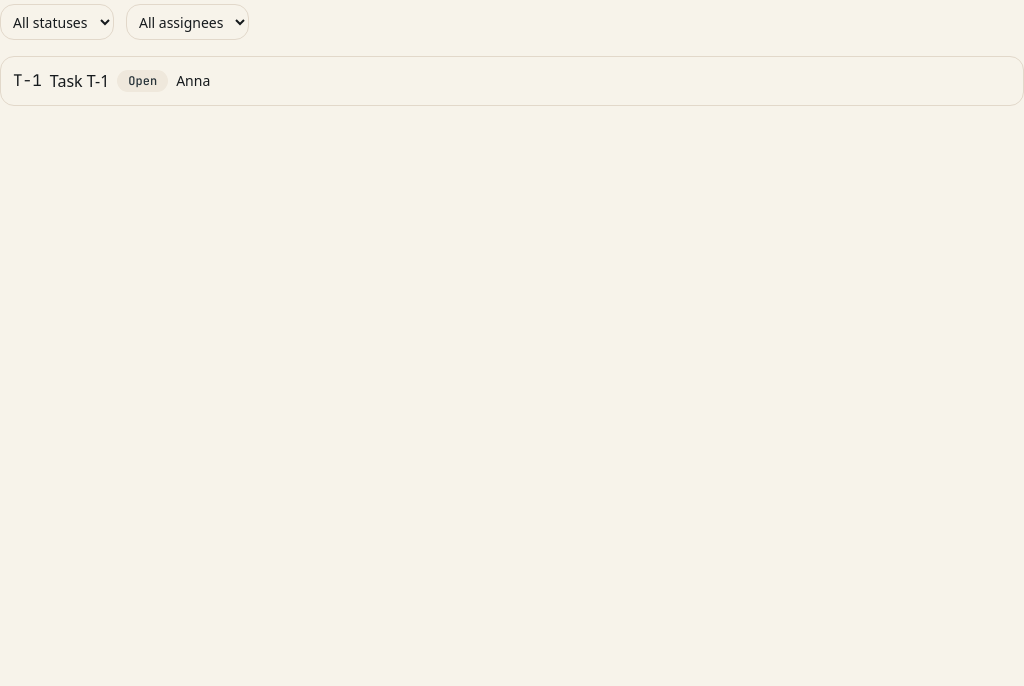
it: manual edit › shows the API error when the transition is rejected
This screenshot has width=1024, height=686.
Step 1. Click the button with test id "task-row-T-1" → (80, 81), box [0,56,1023,106]
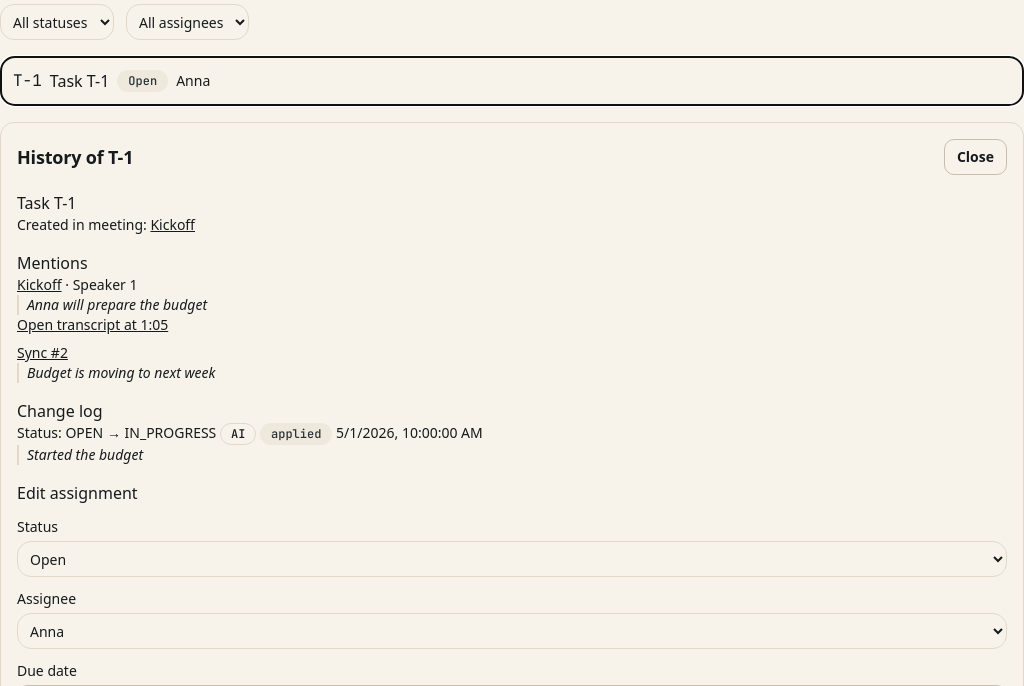
Step 2. Select "Done" in the dropdown with test id "task-edit-status" → (512, 559), box [17,541,1007,577]
(page scrolled)
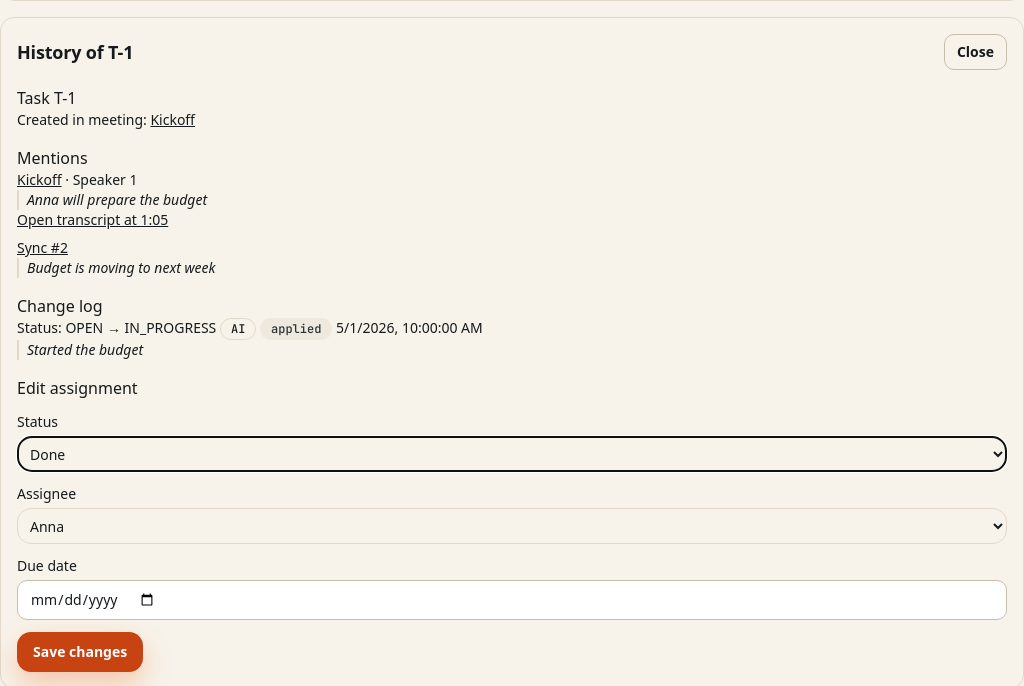
Step 3. Click the button with test id "task-edit-save" → (80, 652), box [17,632,143,672]
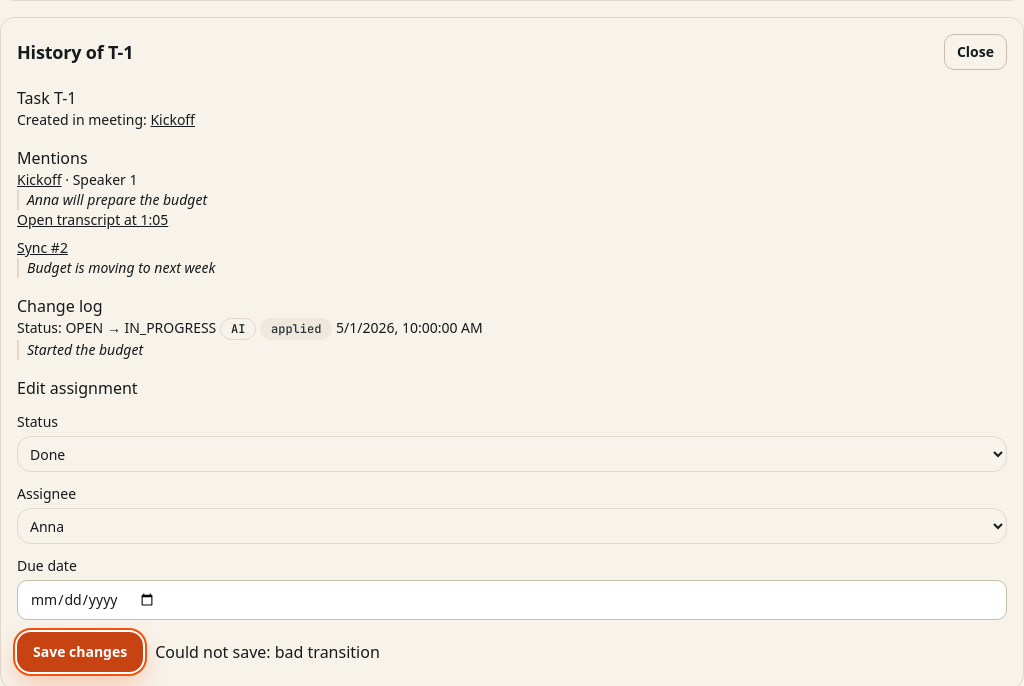
Result: the message with test id "task-edit-error" shows "bad transition" at [155,641,380,663]
